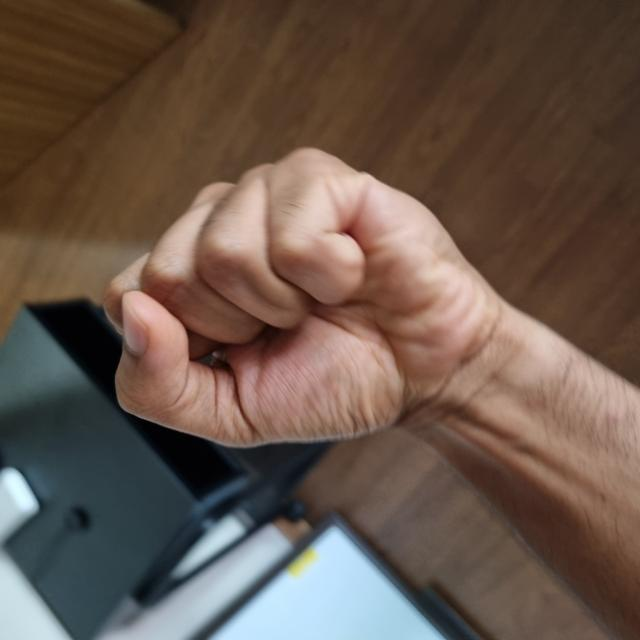Rock: (194, 109, 353, 403)
